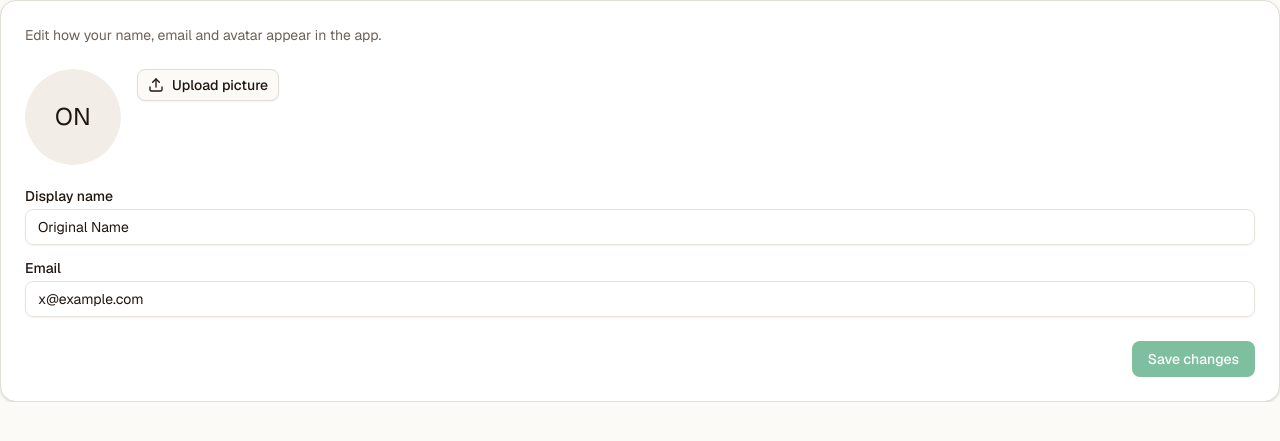
Test: ProfilePanel › blocks save and shows an error when the email is malformed
Step 1. Replace the text in the field labelled "Email" with "not-an-email" → (640, 299), box [25, 281, 1255, 317]
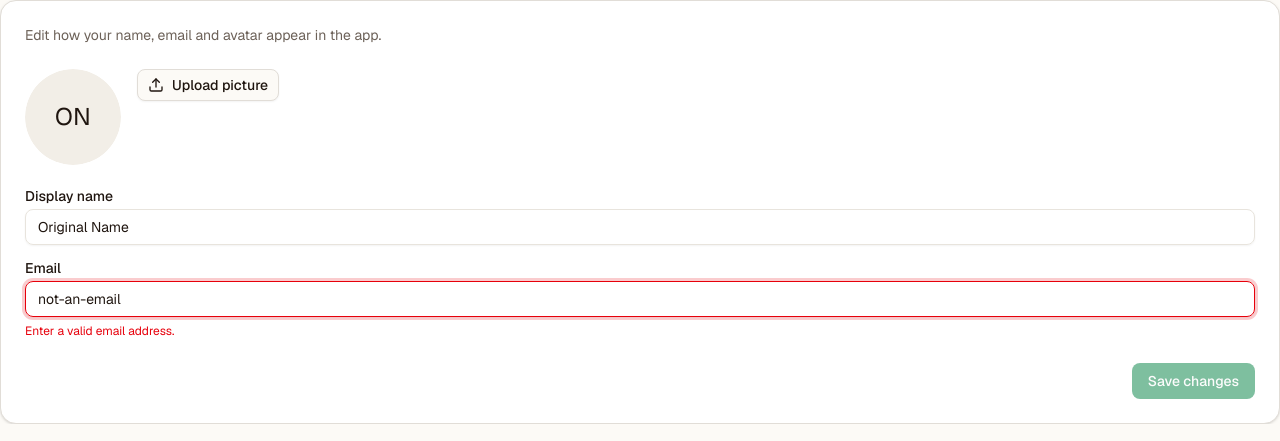
Now the button "Save changes" is disabled, box [1132, 363, 1255, 399]
Now the message shows "valid email", box [25, 323, 174, 339]
